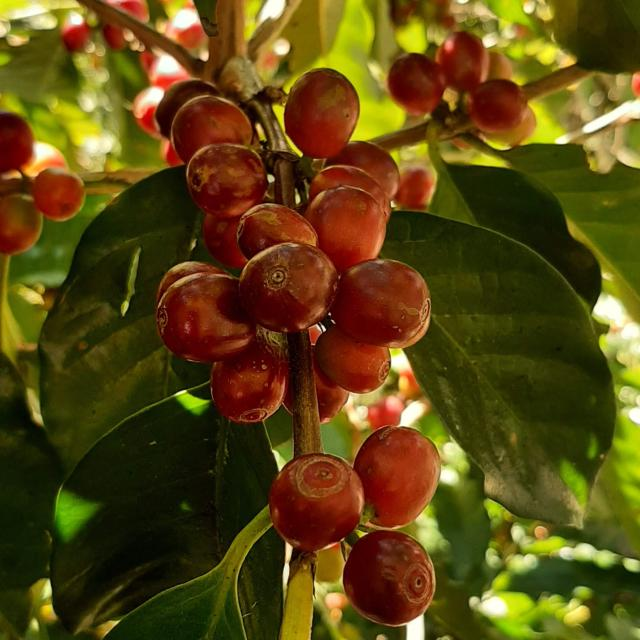red: (269, 454, 364, 553), (239, 242, 339, 333), (156, 273, 256, 363), (331, 259, 431, 348), (354, 427, 441, 529), (343, 532, 436, 627), (305, 185, 386, 272), (211, 334, 288, 424), (284, 67, 360, 158), (186, 143, 268, 218), (170, 95, 253, 163), (314, 325, 391, 394), (236, 203, 318, 260), (326, 140, 401, 199), (387, 52, 447, 115), (436, 30, 490, 91), (468, 79, 528, 133), (31, 167, 84, 221), (0, 110, 33, 172)
yellow: (0, 193, 41, 255)
